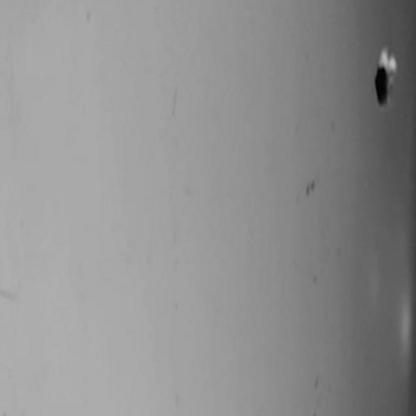kongdong: (359, 44, 411, 109)
